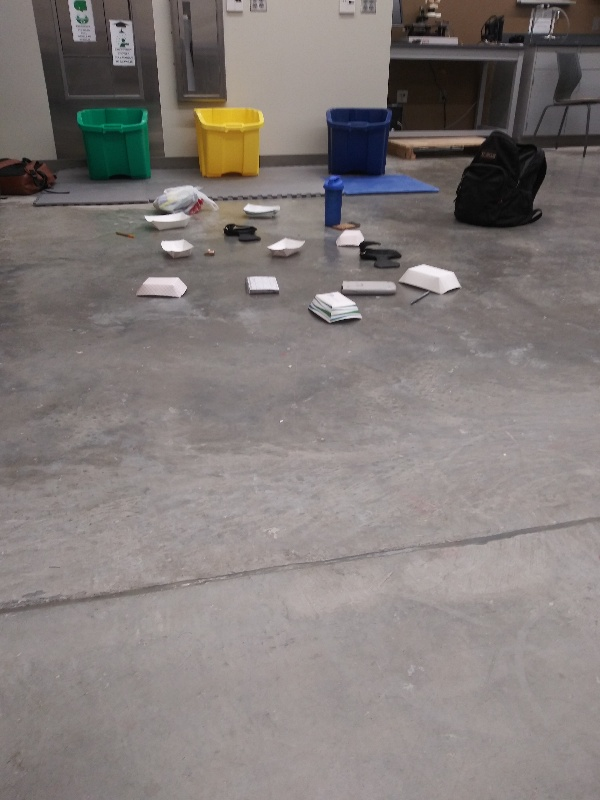plate: (396, 259, 467, 298), (302, 291, 365, 328), (132, 271, 193, 306), (143, 207, 198, 234), (263, 234, 309, 261), (238, 198, 285, 222), (158, 235, 200, 260), (333, 224, 366, 253)
